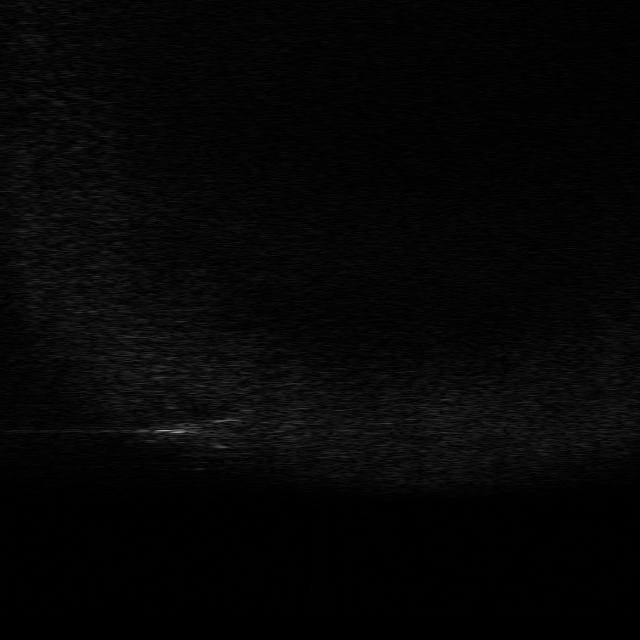plane: (141, 405, 239, 451)
